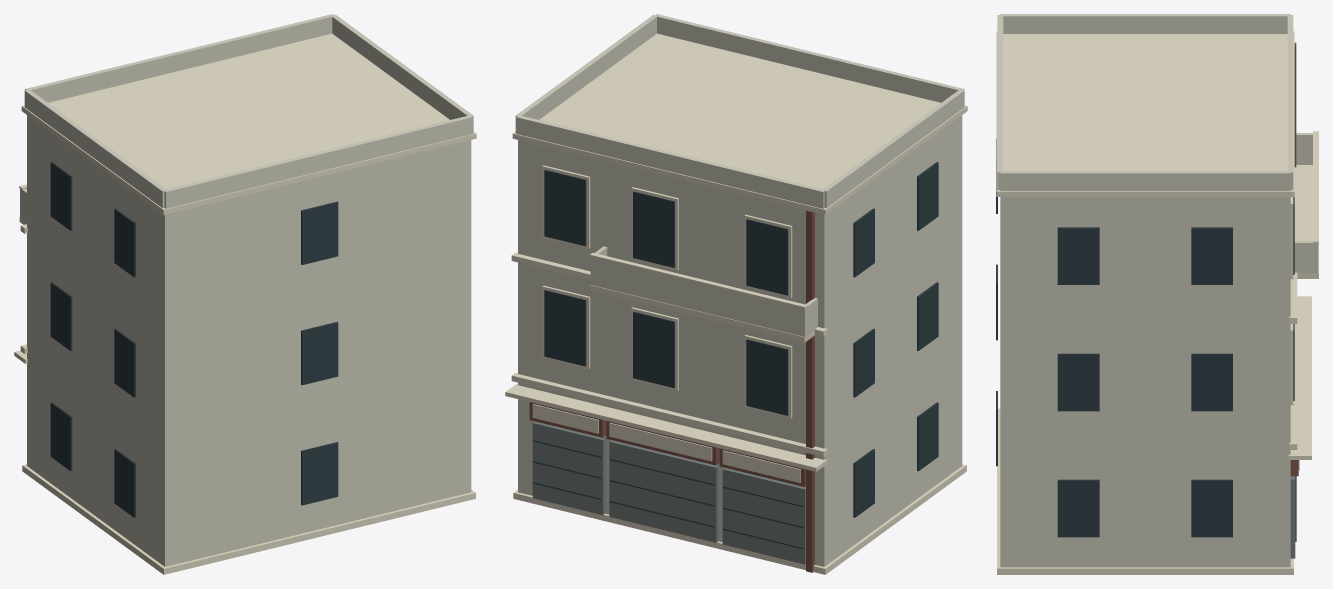
Rendered from KOL_T3_MIX_04.fbx.
The picture shows the model from 3 angles, left to right: view 1: azimuth 30°, elevation 25°; view 2: azimuth 150°, elevation 25°; view 3: azimuth 270°, elevation 25°; orthographic projection. The views are drawn at different scales.
Visible parts, largest first — view 1: KOL_T3_MIX_04__Body, KOL_T3_MIX_04__Trim, KOL_T3_MIX_04__Dark; view 2: KOL_T3_MIX_04__Body, KOL_T3_MIX_04__Trim, KOL_T3_MIX_04__Dark, KOL_T3_MIX_04__Roof, KOL_T3_MIX_04__Accent; view 3: KOL_T3_MIX_04__Body, KOL_T3_MIX_04__Trim, KOL_T3_MIX_04__Dark, KOL_T3_MIX_04__Accent, KOL_T3_MIX_04__Roof.
Boxes of the visible parts, x1,y1,x2,y2 form: KOL_T3_MIX_04__Body: [20, 14, 473, 566]; KOL_T3_MIX_04__Trim: [14, 33, 476, 574]; KOL_T3_MIX_04__Dark: [50, 162, 338, 517]; KOL_T3_MIX_04__Body: [515, 14, 964, 566]; KOL_T3_MIX_04__Trim: [505, 33, 967, 574]; KOL_T3_MIX_04__Dark: [533, 162, 938, 549]; KOL_T3_MIX_04__Roof: [532, 421, 805, 564]; KOL_T3_MIX_04__Accent: [529, 210, 814, 572]; KOL_T3_MIX_04__Body: [997, 14, 1318, 567]; KOL_T3_MIX_04__Trim: [996, 31, 1318, 574]; KOL_T3_MIX_04__Dark: [996, 139, 1296, 541]; KOL_T3_MIX_04__Accent: [1290, 42, 1298, 476]; KOL_T3_MIX_04__Roof: [1290, 476, 1295, 558].
Size of the model in its own units: 32.74 by 38.15 by 27.82.
